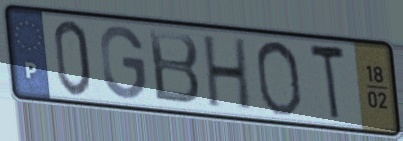0: (50, 17, 95, 99)
B: (146, 26, 203, 108)
G: (98, 24, 149, 103)
H: (202, 34, 253, 115)
O: (253, 38, 304, 118)
T: (307, 41, 349, 125)
